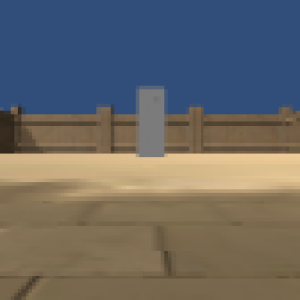wall: (136, 87, 165, 157)
